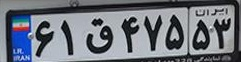character: (78, 14, 118, 57), (117, 13, 142, 58), (32, 19, 57, 60), (142, 12, 165, 55), (164, 11, 186, 55), (57, 17, 78, 60), (212, 14, 233, 51), (191, 19, 213, 53)
